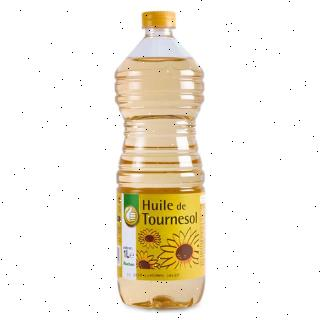Plastic-bottle: (106, 6, 216, 314)
